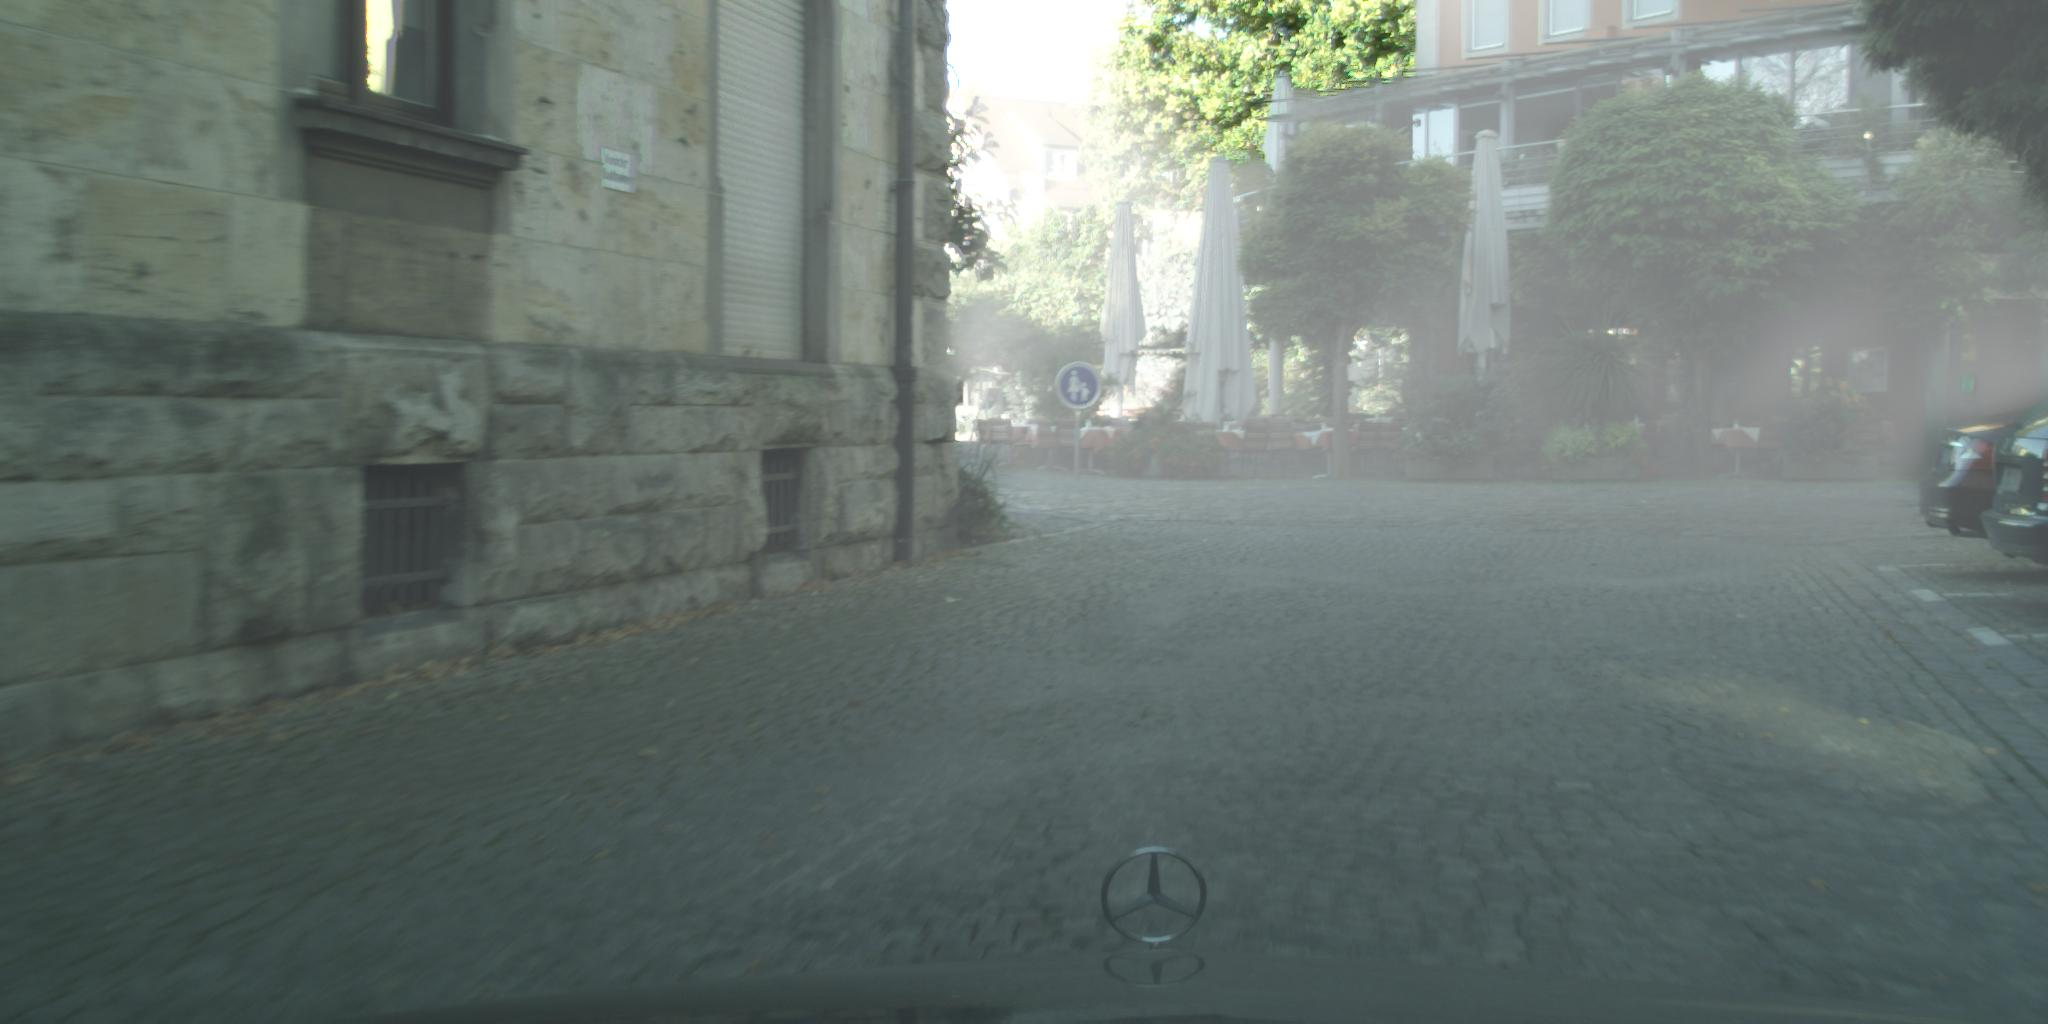car: (1921, 410, 2038, 539), (1981, 400, 2048, 567)
